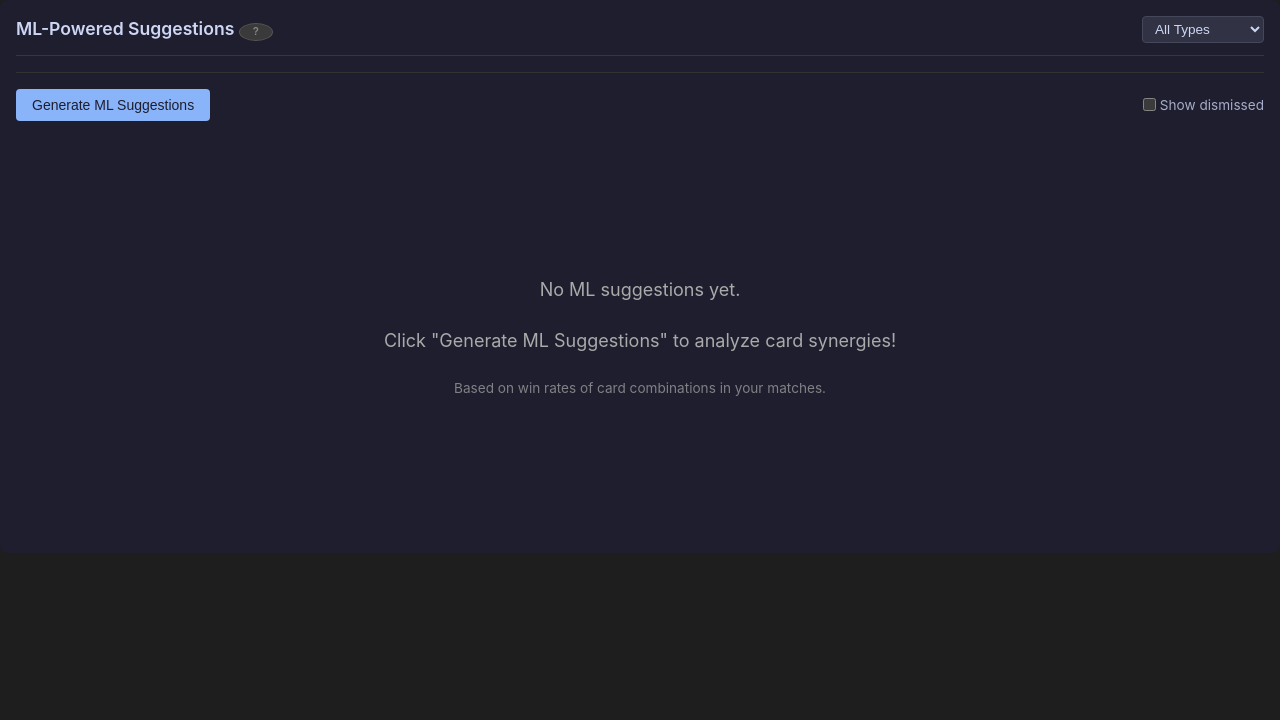
Test case: MLSuggestionsPanel › Generate Suggestions › should show error when no synergy data available
Click the button "Generate ML Suggestions": (113, 105) top-left (16, 89), bottom-right (210, 121)
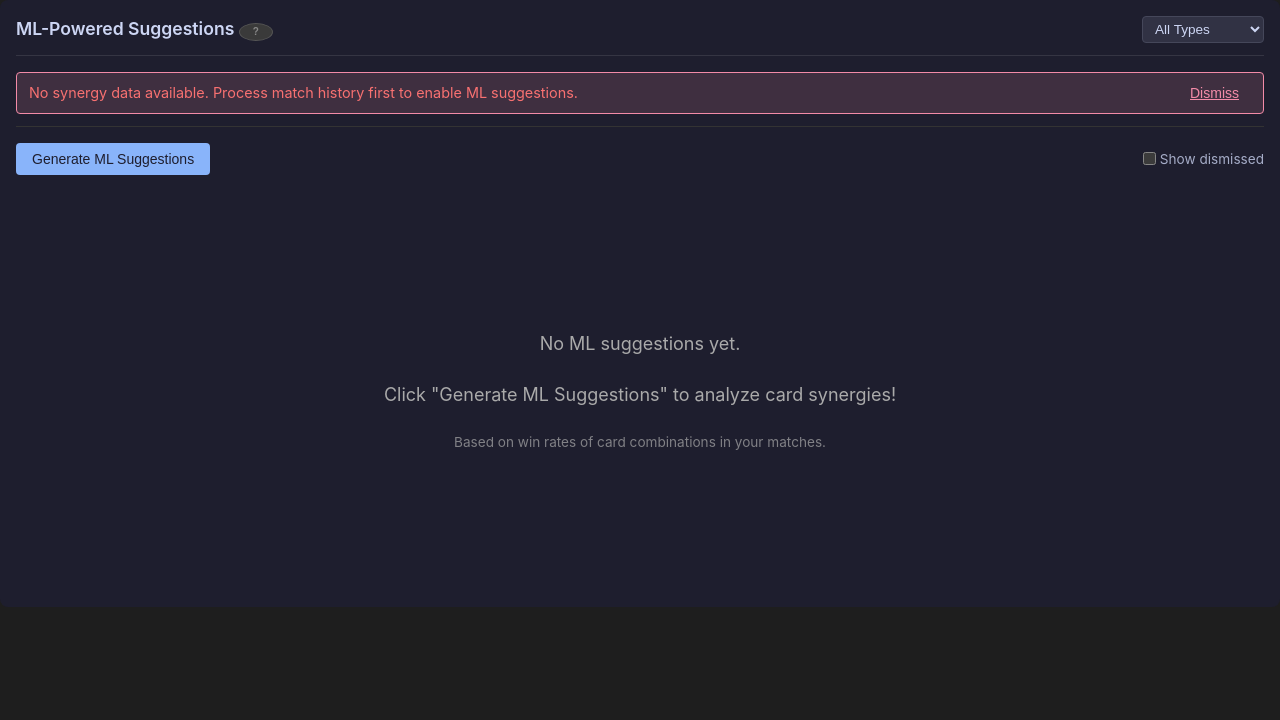
Result: the text "No synergy data available" is shown at top-left (29, 84), bottom-right (578, 101)
